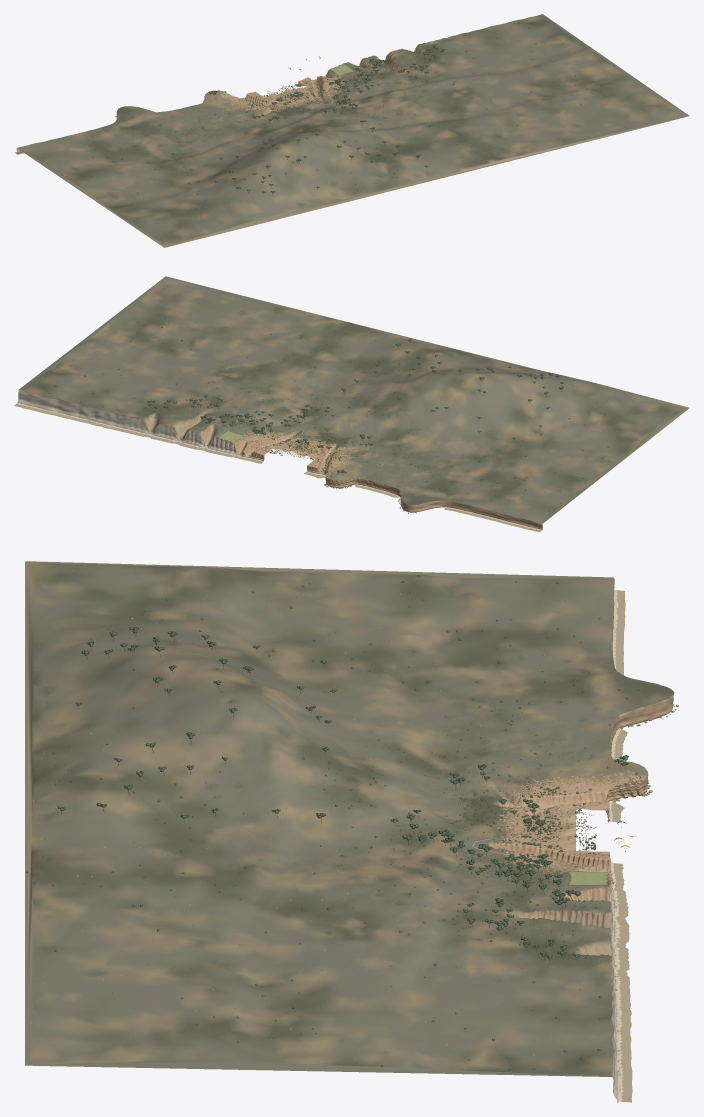
The model's file is hinterland.glb.
3 renders of one model, top to bottom at view 1: azimuth 30°, elevation 25°; view 2: azimuth 150°, elevation 25°; view 3: azimuth 270°, elevation 25°, orthographic. The views are drawn at different scales.
Visible parts, largest first — view 1: hinterland_ground_24, hinterland_ground_27, hinterland_ground_29, hinterland_ground_25, hinterland_ground_30, hinterland_ground_28, hinterland_ground_37, hinterland_ground_35, hinterland_ground_34, hinterland_flora_10_09, hinterland_ground_06, hinterland_ground_17 (+17 smaller); view 2: hinterland_ground_24, hinterland_ground_25, hinterland_ground_29, hinterland_ground_30, hinterland_ground_28, hinterland_ground_27, hinterland_ground_37, hinterland_ground_09, hinterland_ground_05, hinterland_ground_13, hinterland_ground_17, hinterland_ground_18 (+22 smaller); view 3: hinterland_ground_27, hinterland_ground_28, hinterland_ground_29, hinterland_ground_25, hinterland_ground_30, hinterland_ground_24, hinterland_ground_37, hinterland_ground_06, hinterland_ground_35, hinterland_ground_05, hinterland_ground_13, hinterland_ground_09 (+24 smaller).
Boxes of the visible parts, x1,y1,x2,y2 form: hinterland_ground_24: [97, 164, 289, 241]; hinterland_ground_27: [219, 126, 411, 209]; hinterland_ground_29: [463, 70, 654, 148]; hinterland_ground_25: [30, 118, 218, 194]; hinterland_ground_30: [393, 22, 583, 101]; hinterland_ground_28: [342, 101, 532, 181]; hinterland_ground_37: [516, 14, 689, 119]; hinterland_ground_35: [208, 116, 686, 236]; hinterland_ground_34: [164, 175, 447, 247]; hinterland_flora_10_09: [275, 58, 449, 125]; hinterland_ground_06: [173, 99, 249, 131]; hinterland_ground_17: [348, 78, 424, 111]; hinterland_ground_24: [488, 375, 675, 464]; hinterland_ground_25: [417, 433, 608, 519]; hinterland_ground_29: [121, 286, 310, 370]; hinterland_ground_30: [50, 341, 243, 429]; hinterland_ground_28: [244, 315, 434, 395]; hinterland_ground_27: [364, 346, 554, 432]; hinterland_ground_37: [19, 276, 190, 395]; hinterland_ground_09: [322, 410, 398, 450]; hinterland_ground_05: [371, 424, 447, 462]; hinterland_ground_13: [274, 401, 349, 438]; hinterland_ground_17: [226, 386, 301, 425]; hinterland_ground_18: [197, 410, 274, 452]; hinterland_ground_27: [34, 652, 324, 799]; hinterland_ground_28: [33, 788, 325, 924]; hinterland_ground_29: [32, 914, 330, 1044]; hinterland_ground_25: [313, 574, 612, 703]; hinterland_ground_30: [322, 921, 612, 1048]; hinterland_ground_24: [33, 565, 330, 690]; hinterland_ground_37: [26, 1032, 613, 1076]; hinterland_ground_06: [490, 725, 606, 774]; hinterland_ground_35: [25, 569, 49, 1063]; hinterland_ground_05: [378, 717, 493, 773]; hinterland_ground_13: [378, 804, 493, 865]; hinterland_ground_09: [377, 759, 493, 820].
Bounding box in the file's own units: 1383 × 110 × 745.
